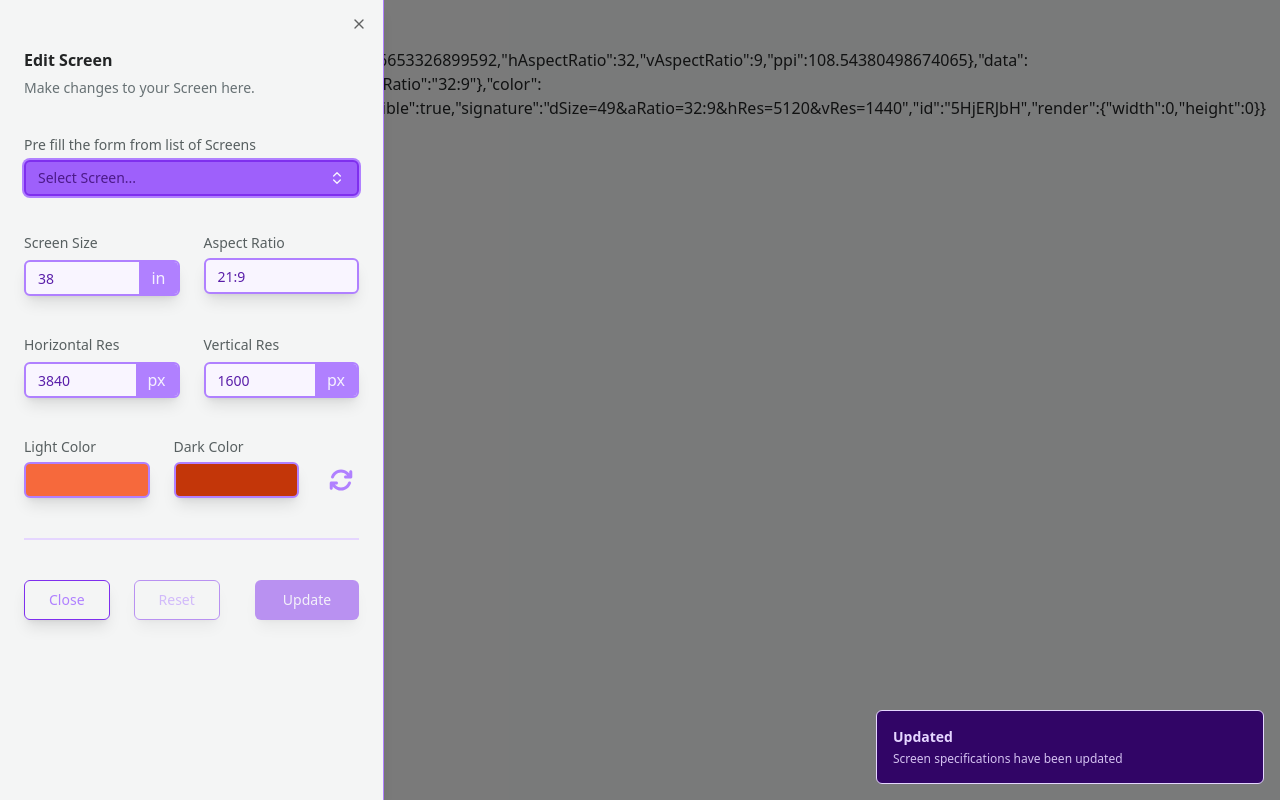
#ScreenFormDrawer › #EditMode › update a screen from list and populate form
The image size is (1280, 800).
Replace the text in the number field labelled "Screen Size" with "34" at (102, 278), box [24,260,180,296]
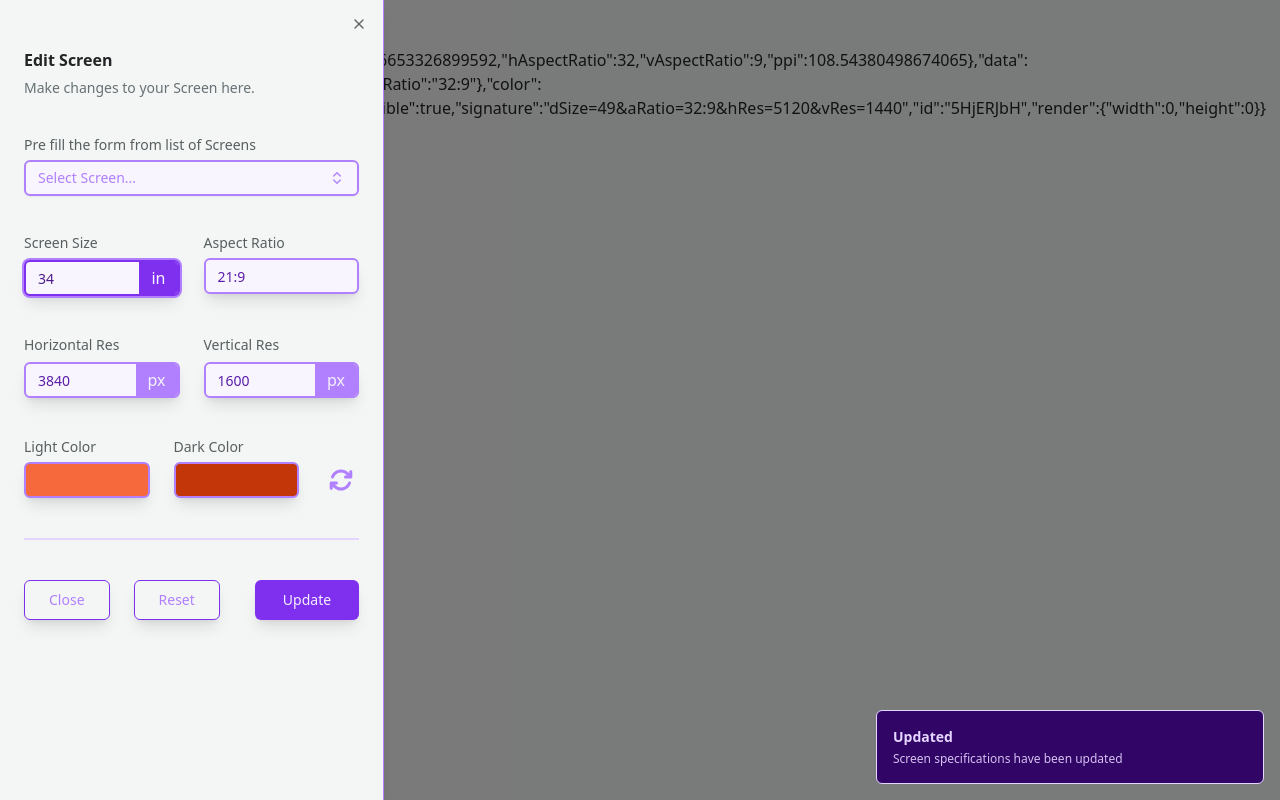
Check: the button "Update" is enabled
Click the button "Update".
click(307, 600)  # box [255,580,359,620]
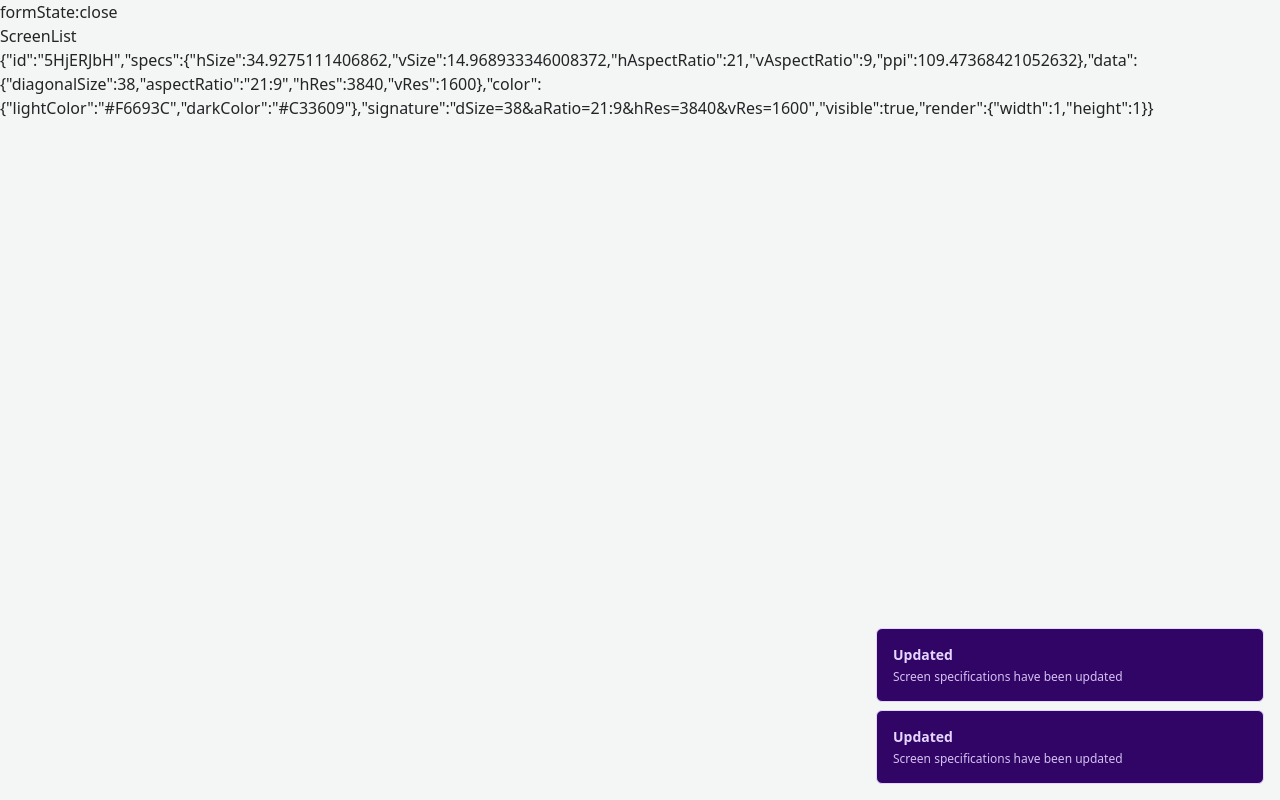
Check: the heading "formState:close" is shown, box [0,1,118,23]
